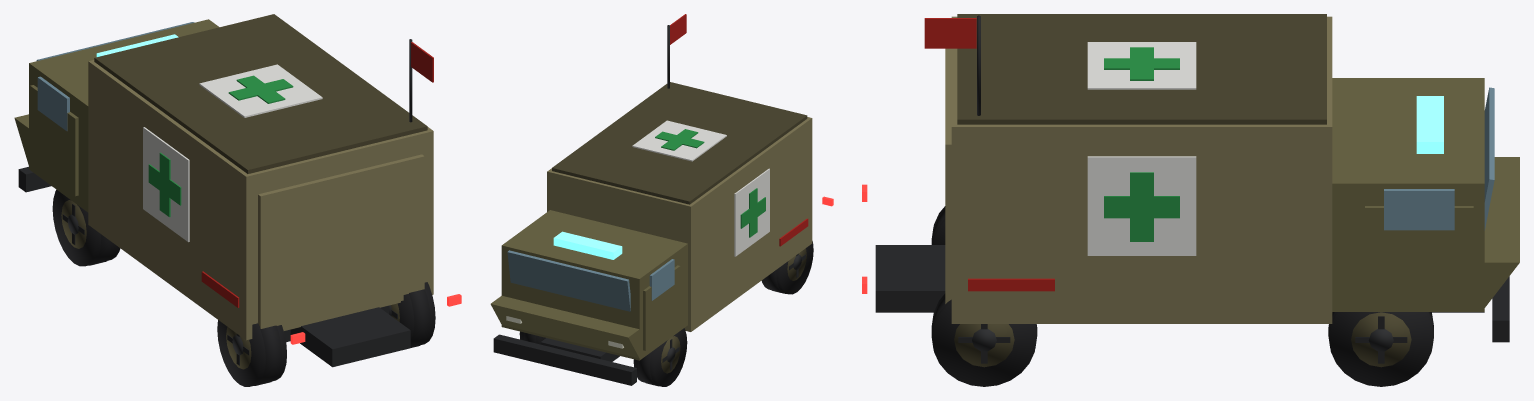
Rendered from Ambulance_Red.fbx.
3 renders of one model, left to right at view 1: azimuth 30°, elevation 25°; view 2: azimuth 150°, elevation 25°; view 3: azimuth 270°, elevation 25°, orthographic. The views are drawn at different scales.
Visible parts, largest first — view 1: MedBox, MedBoxRoof, RearDoors, Cab, Frame, DoorL1Panel, CrossPanelL, RoofCrossPanel, TyreL2, TyreL1, DoorL1Window, TreadBandL2 (+12 smaller); view 2: MedBox, MedBoxRoof, Cab, CabNose, Windshield, Bumper, DoorL1Panel, CrossPanelL, RoofCrossPanel, LightBar, TyreL1, TyreL2 (+9 smaller); view 3: MedBox, MedBoxRoof, Cab, DoorR1Panel, CrossPanelR, Frame, CabNose, TyreR1, RoofCrossPanel, TyreR2, DoorR1Window, RimR1 (+11 smaller).
Boxes of the visible parts, x1=… form: MedBox: x1=88, y1=60, x2=433, y2=340; MedBoxRoof: x1=94, y1=14, x2=427, y2=173; RearDoors: x1=258, y1=154, x2=424, y2=329; Cab: x1=29, y1=19, x2=219, y2=212; Frame: x1=290, y1=307, x2=410, y2=367; DoorL1Panel: x1=30, y1=85, x2=78, y2=196; CrossPanelL: x1=143, y1=127, x2=189, y2=242; RoofCrossPanel: x1=199, y1=64, x2=322, y2=117; TyreL2: x1=217, y1=320, x2=286, y2=386; TyreL1: x1=52, y1=189, x2=120, y2=266; DoorL1Window: x1=37, y1=76, x2=69, y2=130; TreadBandL2: x1=254, y1=323, x2=281, y2=385; MedBox: x1=547, y1=117, x2=812, y2=331; MedBoxRoof: x1=552, y1=82, x2=807, y2=204; Cab: x1=501, y1=210, x2=687, y2=360; CabNose: x1=490, y1=295, x2=640, y2=358; Windshield: x1=507, y1=250, x2=630, y2=311; Bumper: x1=493, y1=334, x2=636, y2=385; DoorL1Panel: x1=643, y1=265, x2=680, y2=350; CrossPanelL: x1=734, y1=168, x2=769, y2=256; RoofCrossPanel: x1=632, y1=120, x2=726, y2=161; LightBar: x1=553, y1=231, x2=622, y2=259; TyreL1: x1=633, y1=328, x2=687, y2=386; TyreL2: x1=761, y1=241, x2=813, y2=294; MedBox: x1=951, y1=16, x2=1332, y2=323; MedBoxRoof: x1=957, y1=14, x2=1326, y2=124; Cab: x1=1332, y1=78, x2=1484, y2=311; DoorR1Panel: x1=1365, y1=206, x2=1473, y2=301; CrossPanelR: x1=1087, y1=156, x2=1196, y2=255; Frame: x1=875, y1=245, x2=1484, y2=312; CabNose: x1=1482, y1=157, x2=1519, y2=311; TyreR1: x1=1329, y1=312, x2=1433, y2=386; RoofCrossPanel: x1=1087, y1=42, x2=1196, y2=89; TyreR2: x1=932, y1=293, x2=1036, y2=386; DoorR1Window: x1=1384, y1=189, x2=1454, y2=230; RimR1: x1=1351, y1=312, x2=1411, y2=367.
Size of the model in its own units: 247 by 605 by 373.
